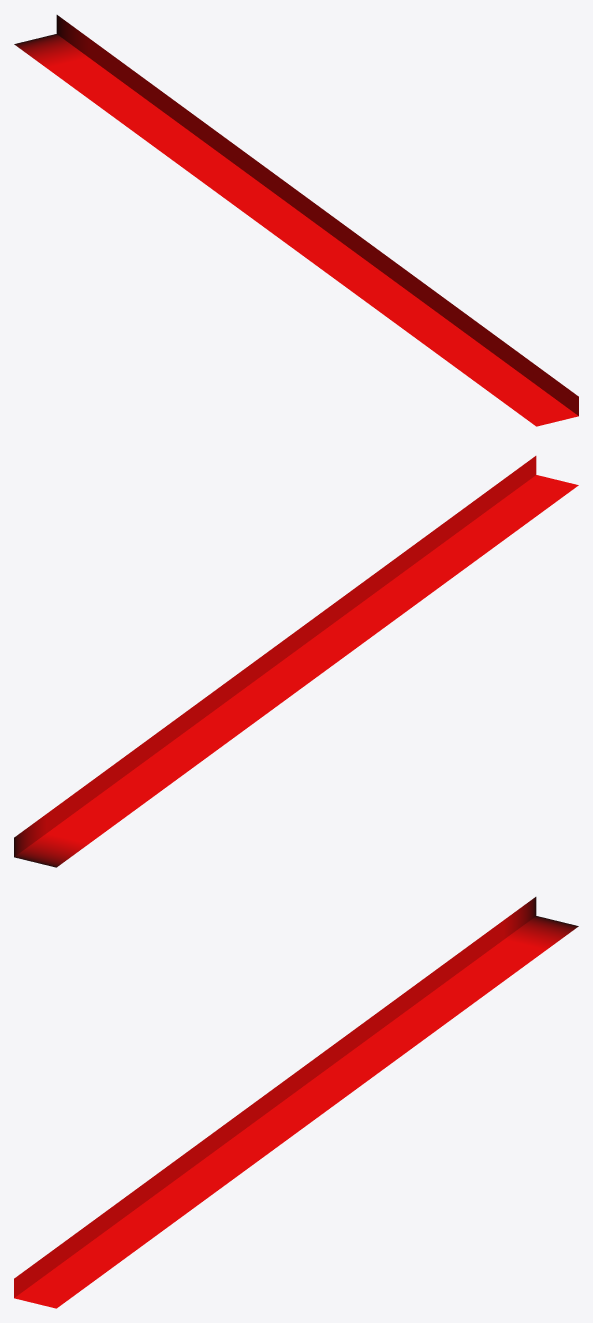
File: K8000_TAIL.glb
3 views of the same model, one above another, from view 1: azimuth 30°, elevation 25°; view 2: azimuth 150°, elevation 25°; view 3: azimuth 330°, elevation 25° (orthographic).
Visible parts, largest first — view 1: Tail; view 2: Tail; view 3: Tail.
Part boxes in pixels (bbox=[...]): Tail: bbox=[14, 15, 578, 426]; Tail: bbox=[14, 456, 578, 867]; Tail: bbox=[14, 897, 578, 1308].
Size of the model in its own units: 0.7518 by 0.3304 by 16.
1 material, 1 textured.
